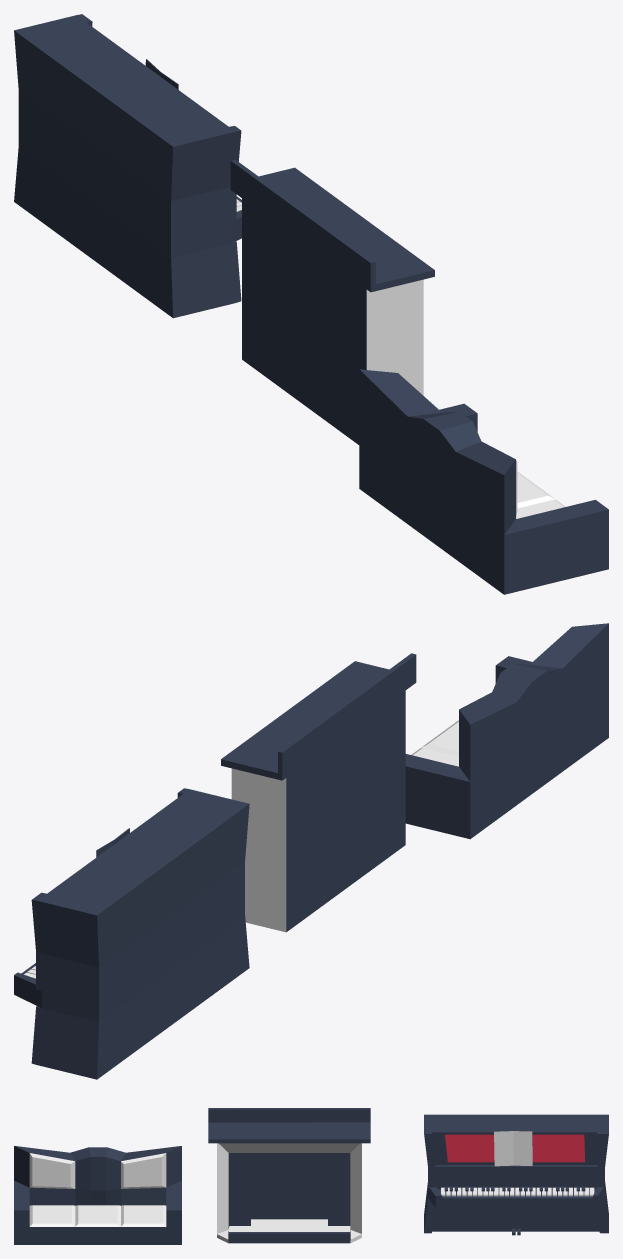
File: assetLivingRoom.fbx
3 renders of one model, top to bottom at view 1: azimuth 30°, elevation 25°; view 2: azimuth 150°, elevation 25°; view 3: azimuth 270°, elevation 25°, orthographic. The views are drawn at different scales.
Visible parts, largest first — view 1: Piano, Fireplace, Lounge; view 2: Piano, Fireplace, Lounge; view 3: Piano, Fireplace, Lounge.
Part boxes in pixels (x1,y1,x2,y2): Piano: [14, 14, 241, 318]; Fireplace: [230, 159, 434, 444]; Lounge: [359, 369, 608, 594]; Piano: [14, 788, 249, 1079]; Fireplace: [221, 653, 416, 932]; Lounge: [405, 623, 608, 839]; Piano: [424, 1114, 608, 1235]; Fireplace: [208, 1108, 370, 1243]; Lounge: [14, 1146, 181, 1244].
Size of the model in its own units: 416 by 673 by 3108.
